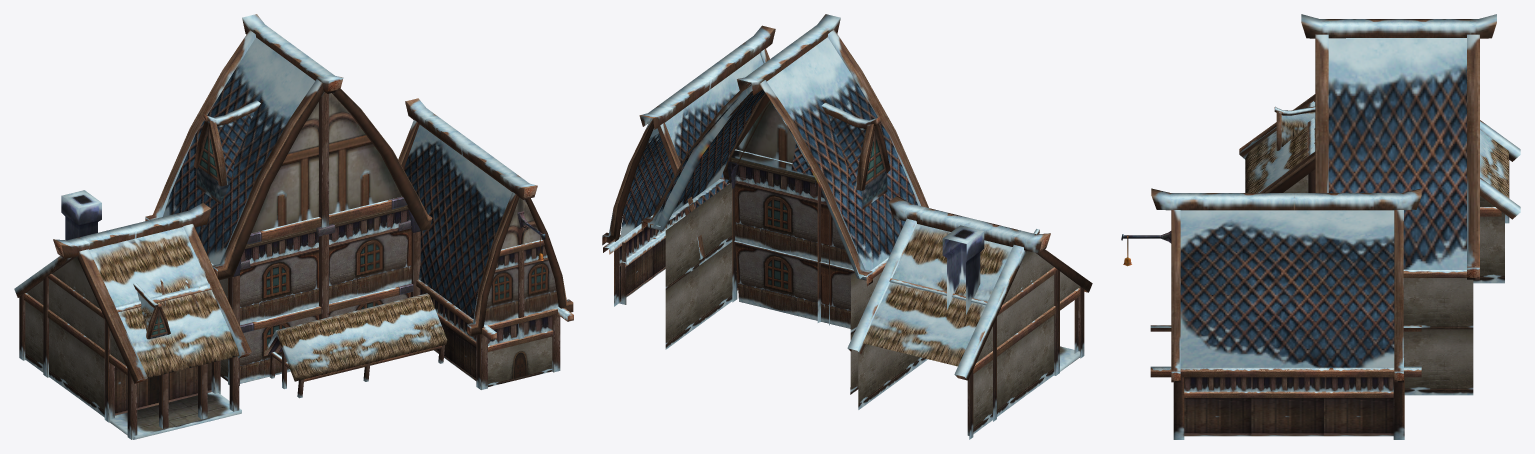
The model's file is yw_xuesebingfeng_fangzi02.FBX.
The picture shows the model from 3 angles, left to right: view 1: azimuth 30°, elevation 25°; view 2: azimuth 150°, elevation 25°; view 3: azimuth 270°, elevation 25°; orthographic projection. The views are drawn at different scales.
Parts seen in each view (by area): view 1: yw_xuesebingfeng_fangzi02; view 2: yw_xuesebingfeng_fangzi02; view 3: yw_xuesebingfeng_fangzi02.
Part boxes in pixels (<box>): yw_xuesebingfeng_fangzi02: <box>14,14,573,439</box>; yw_xuesebingfeng_fangzi02: <box>602,14,1092,439</box>; yw_xuesebingfeng_fangzi02: <box>1121,14,1520,439</box>.
Bounding box in the file's own units: 1973 × 1299 × 1427.
